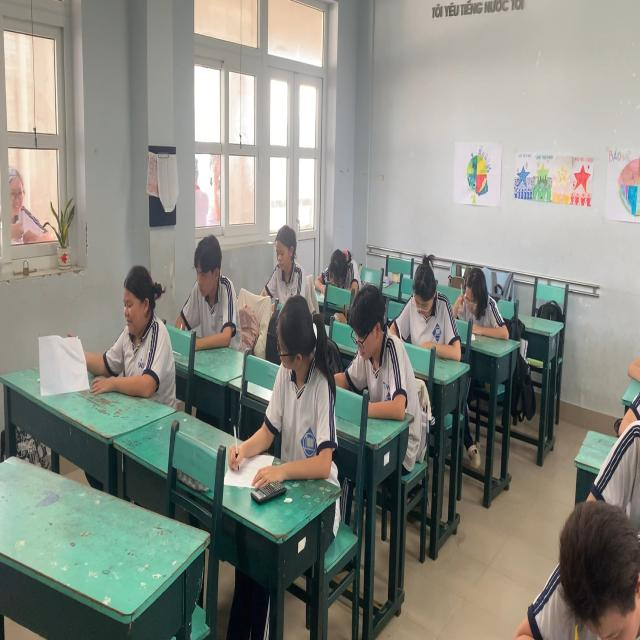cheating: (260, 298, 341, 492)
not_cheating: (551, 492, 640, 640), (101, 255, 177, 409), (336, 274, 410, 424), (182, 233, 248, 355), (401, 243, 453, 362), (264, 219, 308, 308), (456, 255, 501, 342), (317, 228, 357, 294)
